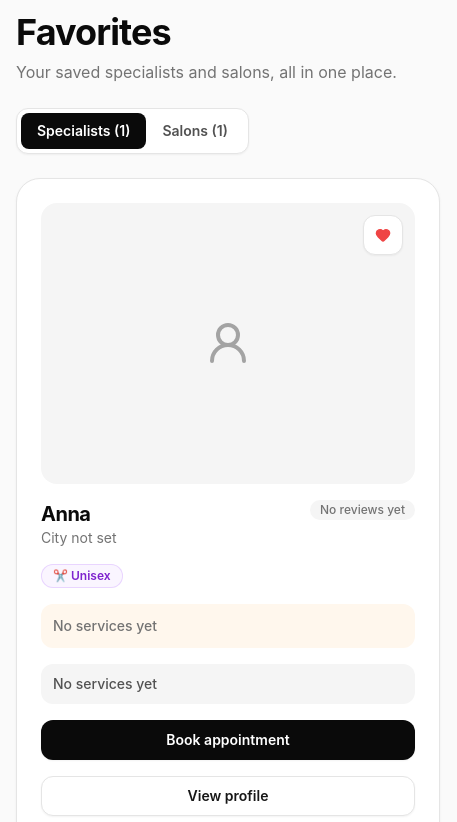
it: FavoritesPage favorite removal protection › keeps specialist and salon pending states separate even when ids match
What coordinates should you click on to do the following:
click the button named "Remove favorite"
I would click on:
 (383, 235)
Its box is [363,215,403,255].
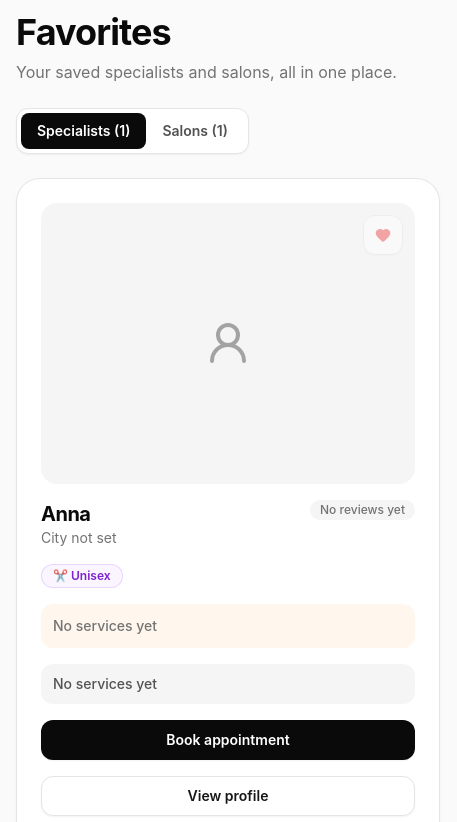
Check: the button named "Remove favorite" is disabled, box [363,215,403,255]
What coordinates should you click on to do the following:
click the tab "Salons (1)"
I would click on:
 (195, 131)
Its box is [146,113,244,149].
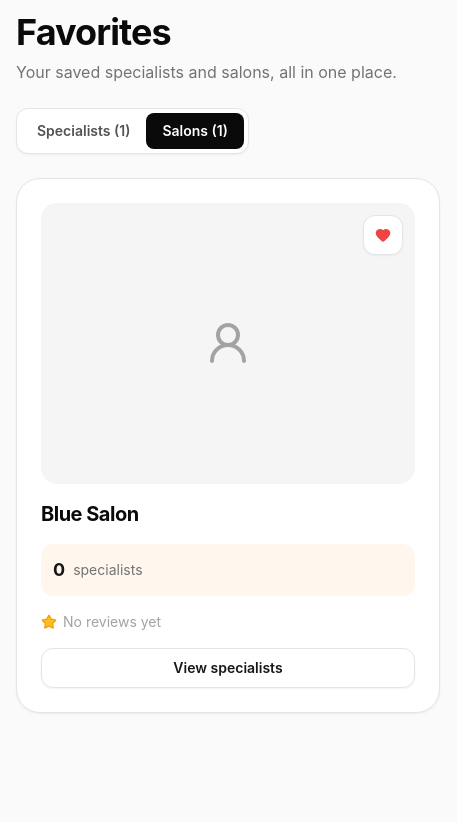
Check: the button named "Remove salon favorite" is enabled, box [363,215,403,255]
